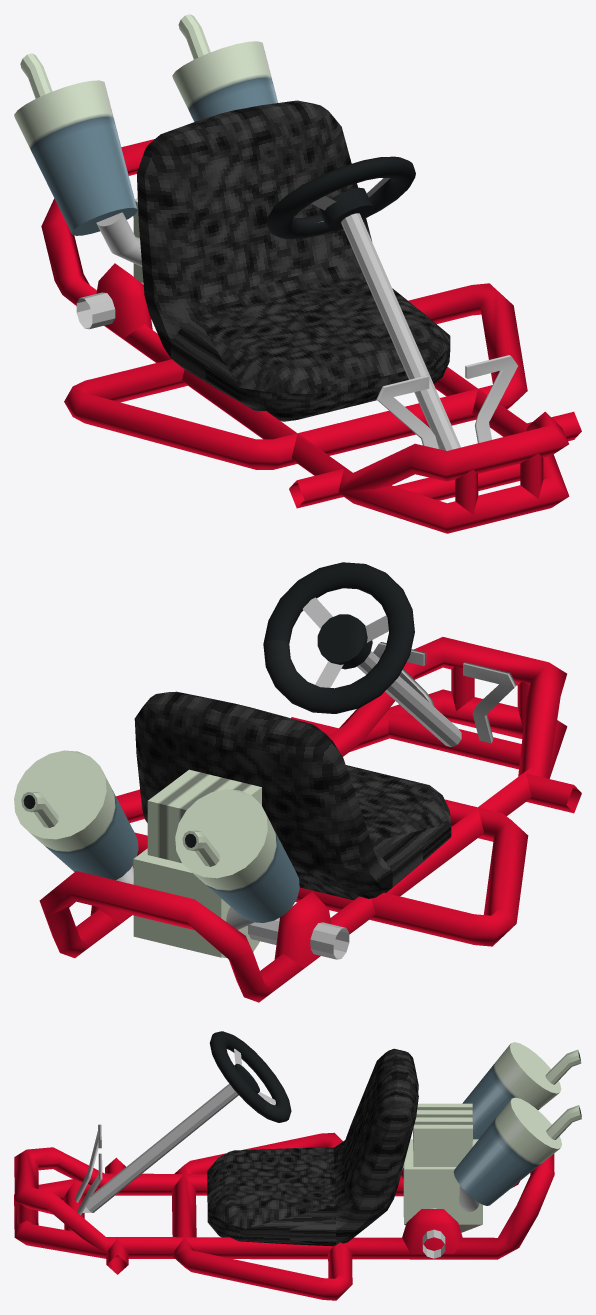
File: Kart.obj
3 views of the same model, one above another, from view 1: azimuth 30°, elevation 25°; view 2: azimuth 150°, elevation 25°; view 3: azimuth 270°, elevation 25° (orthographic). The views are drawn at different scales.
Parts seen in each view (by area): view 1: Ladybug:Mesh1; view 2: Ladybug:Mesh1; view 3: Ladybug:Mesh1.
Part boxes in pixels (box(x1,y1,x2,y2)): Ladybug:Mesh1: box(14, 14, 581, 533); Ladybug:Mesh1: box(14, 562, 581, 1002); Ladybug:Mesh1: box(14, 1031, 581, 1300).
Bounding box in the file's own units: 0.6476 × 0.375 × 1.01.
